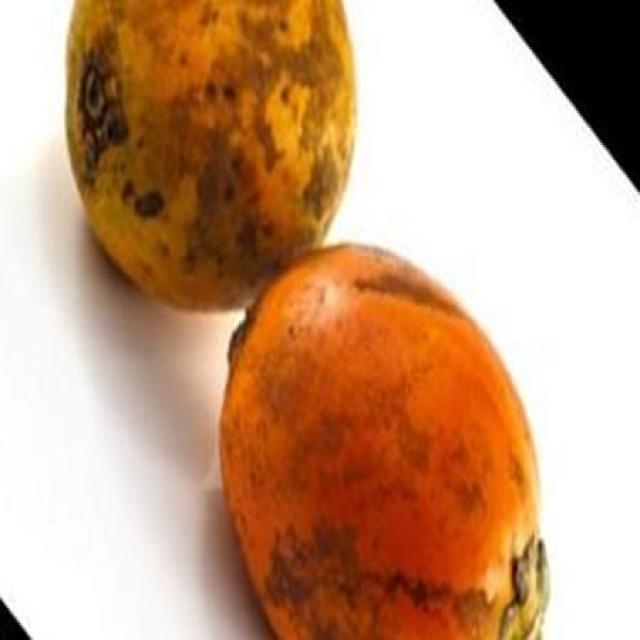good: (218, 243, 552, 638), (64, 0, 358, 309)
